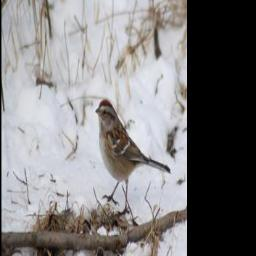Sparrow: (93, 94, 170, 220)
